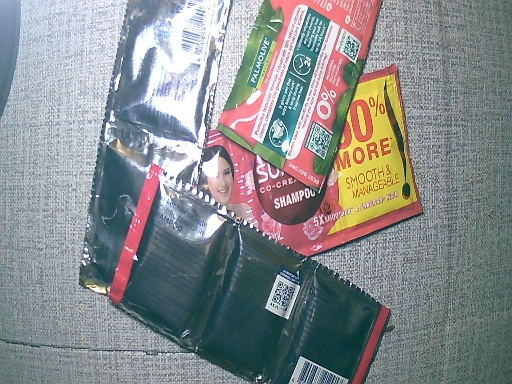plastic: (110, 159, 393, 384), (195, 66, 431, 257), (78, 1, 229, 291), (198, 1, 393, 183)
